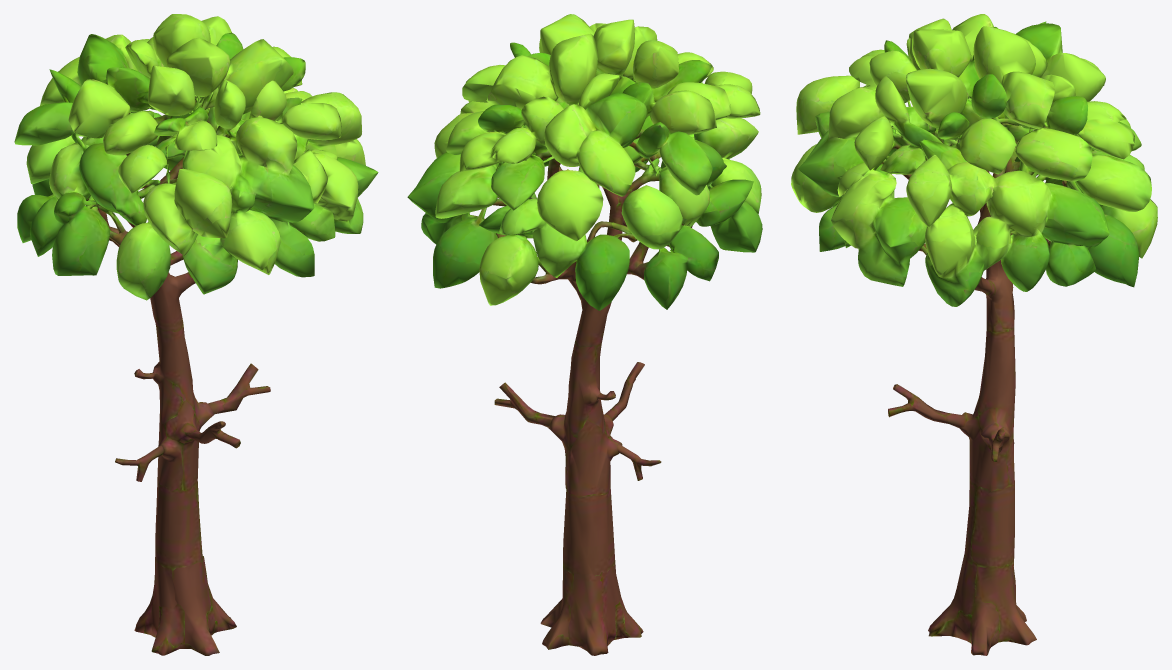
Rendered from 3-tree-game.glb.
3 renders of one model, left to right at view 1: azimuth 30°, elevation 25°; view 2: azimuth 150°, elevation 25°; view 3: azimuth 270°, elevation 25°, orthographic.
Bounding box in the file's own units: 1.01 × 1.9 × 1.04.
Materials: 1 (1 with a texture image).
